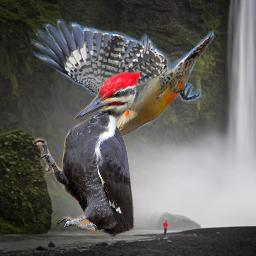Woodpecker: (30, 19, 214, 156), (32, 71, 140, 237)
